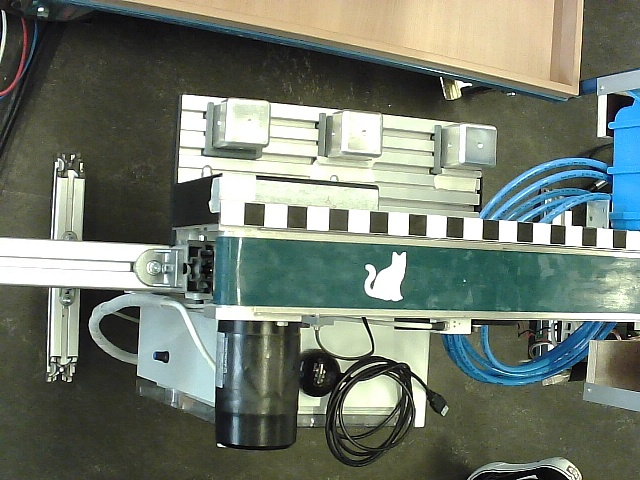cat: (364, 251, 408, 302)
